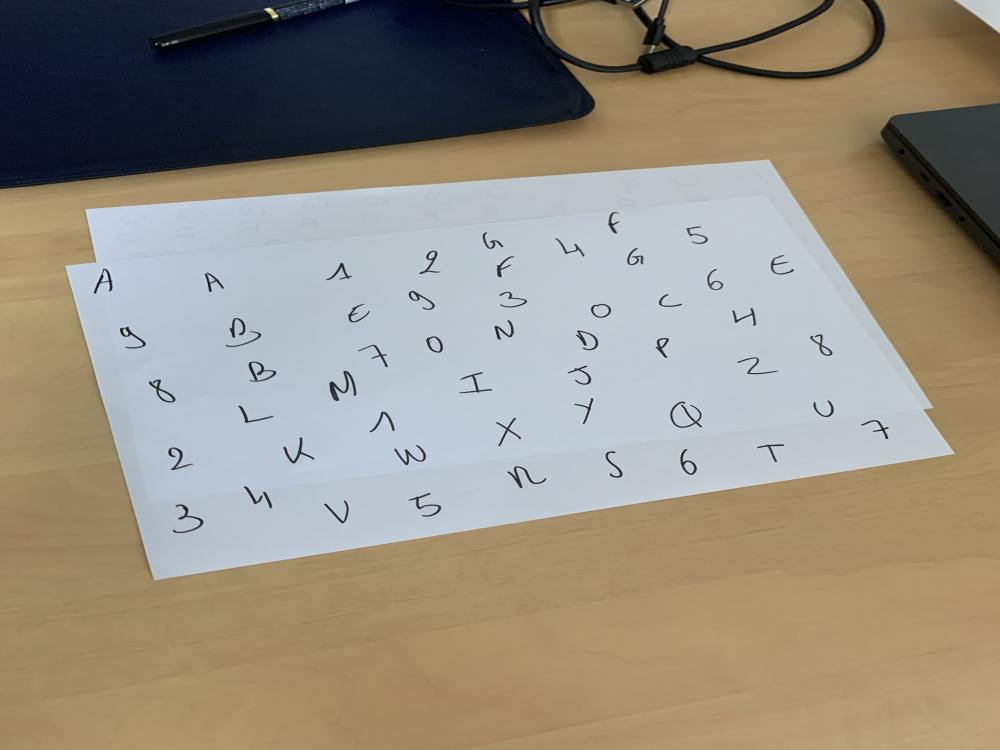0: (584, 299, 618, 321), (421, 335, 451, 359)
1: (366, 409, 406, 435), (322, 261, 354, 282)
2: (159, 446, 195, 473), (416, 248, 444, 276)
3: (154, 500, 216, 537), (492, 290, 532, 313)
4: (242, 486, 286, 512), (550, 234, 590, 260), (726, 307, 766, 328)
5: (406, 492, 446, 521), (683, 222, 711, 246)
6: (672, 446, 704, 478), (702, 268, 735, 292)
7: (356, 342, 392, 370), (856, 416, 894, 442)
8: (142, 374, 182, 409), (809, 332, 836, 357)
9: (109, 324, 152, 352), (406, 290, 440, 313)
A: (91, 268, 115, 296), (202, 271, 228, 293)
B: (220, 315, 266, 350), (246, 360, 279, 384)
C: (655, 292, 688, 312)
D: (572, 327, 602, 354)
E: (343, 301, 378, 327), (766, 254, 796, 276)
F: (489, 253, 521, 280), (606, 211, 628, 236)
G: (622, 245, 648, 269), (480, 230, 505, 250)
I: (458, 370, 499, 396)
J: (564, 365, 602, 390)
K: (276, 435, 322, 466)
L: (226, 401, 283, 427)
M: (322, 369, 364, 404)
N: (497, 464, 558, 492), (490, 320, 518, 342)
P: (650, 336, 686, 360)
Q: (664, 398, 710, 432)
S: (598, 449, 638, 484)
T: (755, 442, 789, 466)
U: (808, 394, 841, 422)
V: (319, 500, 359, 528)
W: (389, 442, 432, 468)
X: (490, 417, 529, 449)
Y: (566, 396, 602, 426)
Z: (734, 354, 786, 380)
